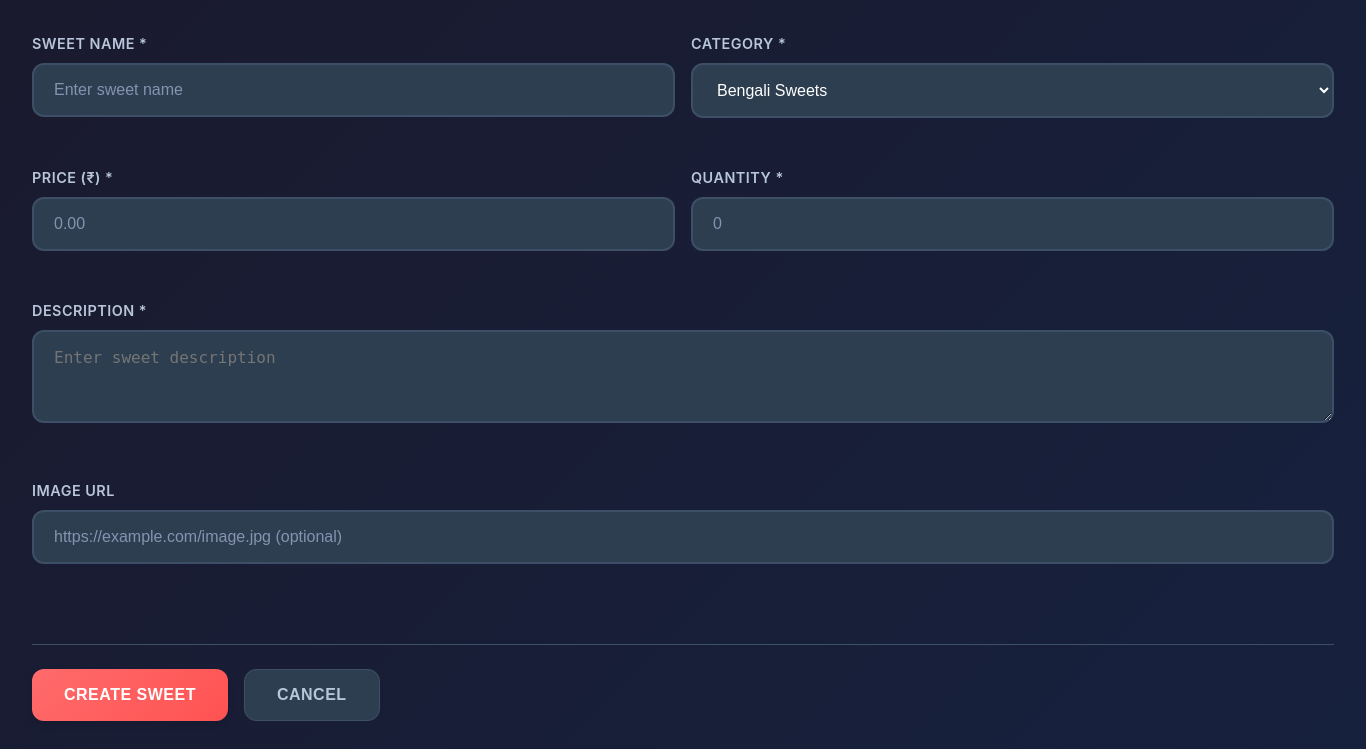
it: SweetForm › should validate required fields
Click the button "Create Sweet": (130, 695) [32,669,228,721]
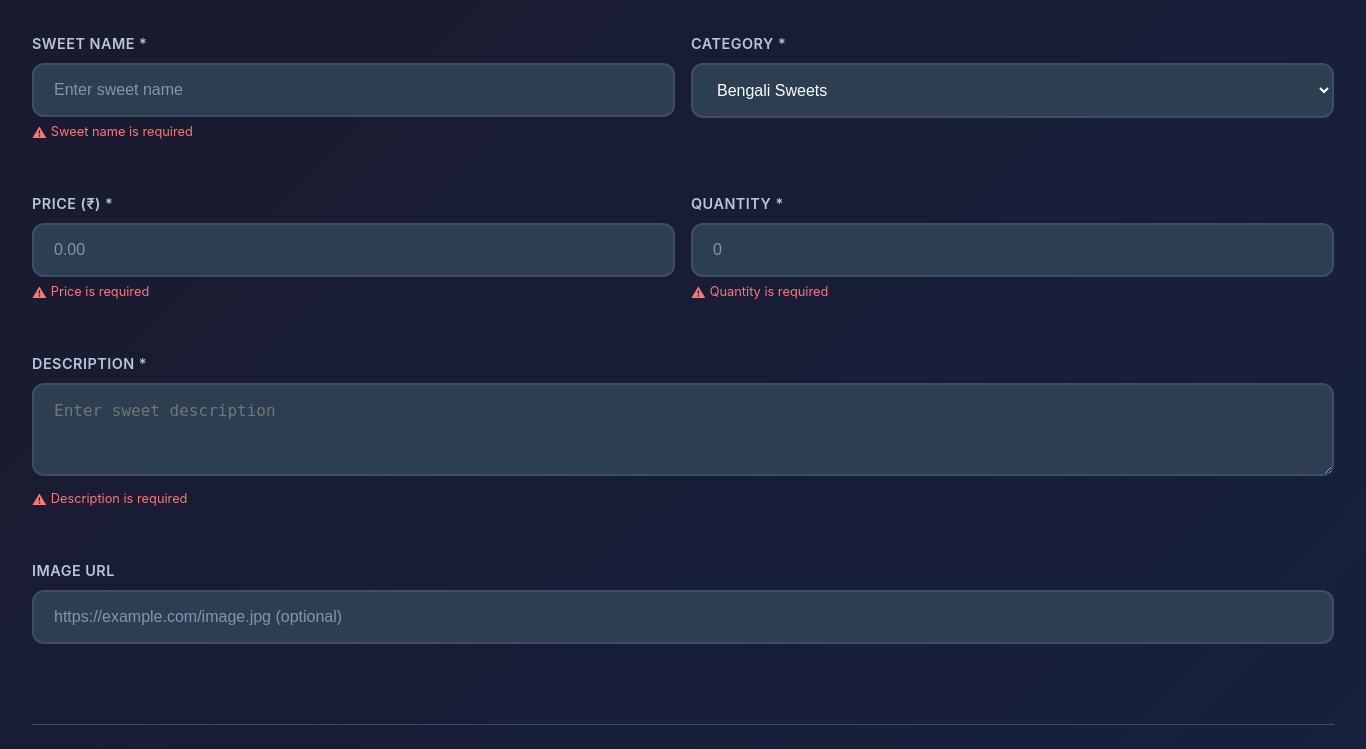
Expected: the text "Sweet name is required" is shown, [51,124,193,139]
Expected: the text "Price is required" is shown, [51,284,149,299]
Expected: the text "Quantity is required" is shown, [710,284,828,299]
